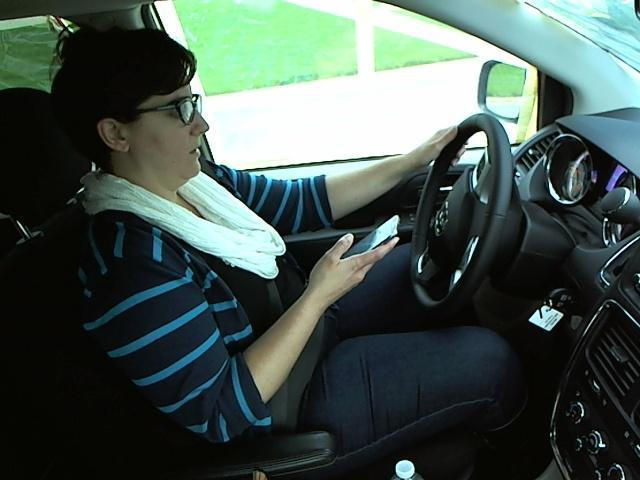PhoneUse: (323, 210, 422, 263)
